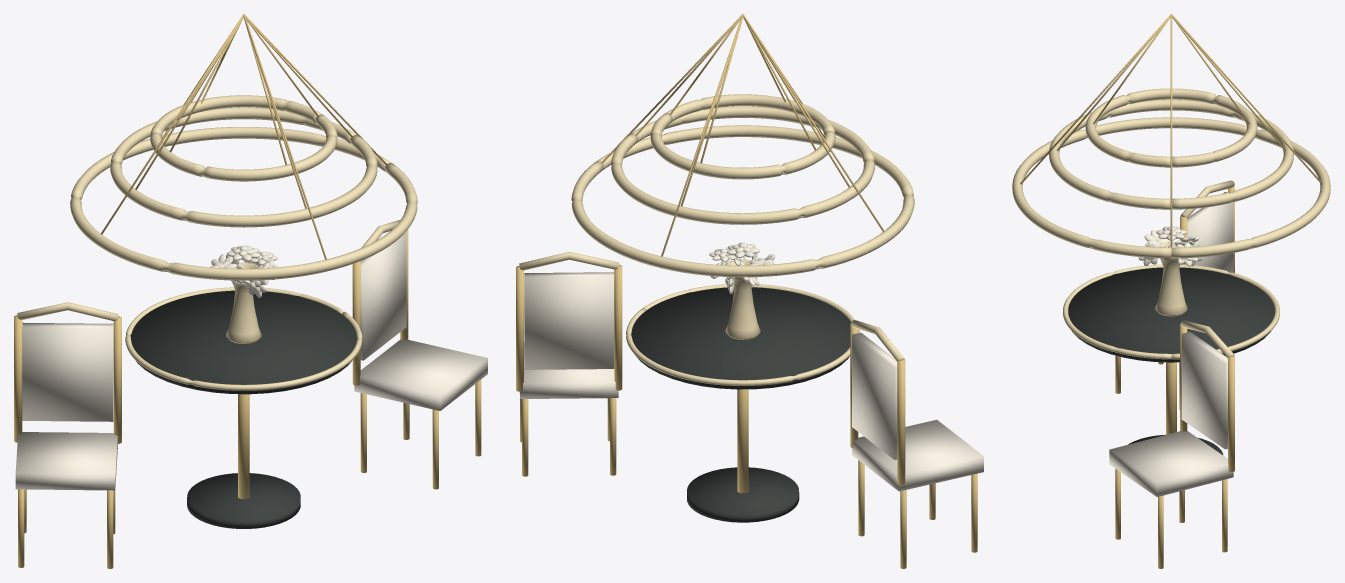
Rendered from scene-hospitality.glb.
The picture shows the model from 3 angles, left to right: view 1: azimuth 30°, elevation 25°; view 2: azimuth 150°, elevation 25°; view 3: azimuth 270°, elevation 25°; orthographic projection. The views are drawn at different scales.
Visible parts, largest first — view 1: halo-rings-12, top-0, back-cushion-8, cushion-7, base-3, suspension-14, back-frame-10, legs-9, rim-1, vase-4, petals-5, stem-2 (+2 smaller); view 2: halo-rings-12, top-0, back-cushion-8, cushion-7, base-3, suspension-14, back-frame-10, legs-9, rim-1, vase-4, back-frame-11, stem-2 (+2 smaller); view 3: halo-rings-12, top-0, back-cushion-8, cushion-7, suspension-14, rim-1, legs-9, back-frame-10, vase-4, petals-5, light-diffuser-13, back-frame-11 (+1 smaller).
Boxes of the visible parts, bbox=[...] form: halo-rings-12: bbox=[70, 95, 417, 280]; top-0: bbox=[130, 290, 357, 394]; back-cushion-8: bbox=[22, 233, 406, 421]; cushion-7: bbox=[15, 339, 487, 490]; base-3: bbox=[187, 473, 300, 528]; suspension-14: bbox=[100, 14, 387, 259]; back-frame-10: bbox=[14, 229, 408, 443]; legs-9: bbox=[18, 379, 481, 568]; rim-1: bbox=[125, 287, 362, 390]; vase-4: bbox=[226, 262, 261, 343]; petals-5: bbox=[210, 245, 278, 297]; stem-2: bbox=[238, 394, 249, 499]; halo-rings-12: bbox=[571, 94, 914, 276]; top-0: bbox=[631, 287, 850, 389]; back-cushion-8: bbox=[524, 272, 897, 459]; cushion-7: bbox=[519, 342, 983, 491]; base-3: bbox=[687, 467, 799, 522]; suspension-14: bbox=[601, 14, 884, 256]; back-frame-10: bbox=[516, 264, 905, 484]; legs-9: bbox=[520, 398, 977, 568]; rim-1: bbox=[626, 284, 859, 385]; vase-4: bbox=[725, 259, 760, 339]; back-frame-11: bbox=[519, 252, 904, 361]; stem-2: bbox=[737, 389, 748, 493]; halo-rings-12: bbox=[1012, 88, 1330, 257]; top-0: bbox=[1068, 267, 1274, 362]; back-cushion-8: bbox=[1181, 192, 1233, 449]; cushion-7: bbox=[1109, 431, 1233, 496]; suspension-14: bbox=[1020, 14, 1322, 252]; rim-1: bbox=[1063, 264, 1279, 359]; legs-9: bbox=[1115, 355, 1227, 568]; back-frame-10: bbox=[1180, 183, 1234, 471]; vase-4: bbox=[1155, 242, 1187, 316]; petals-5: bbox=[1138, 226, 1202, 266]; light-diffuser-13: bbox=[1057, 99, 1285, 258]; back-frame-11: bbox=[1180, 180, 1234, 357].
Size of the model in its own units: 3.06 by 3.05 by 1.95.
